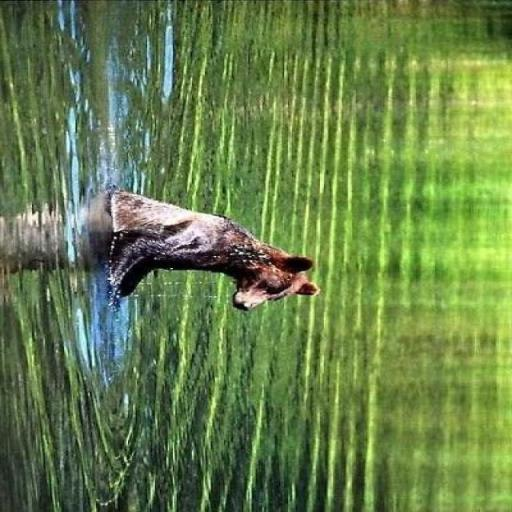Bear: (82, 184, 320, 314)
